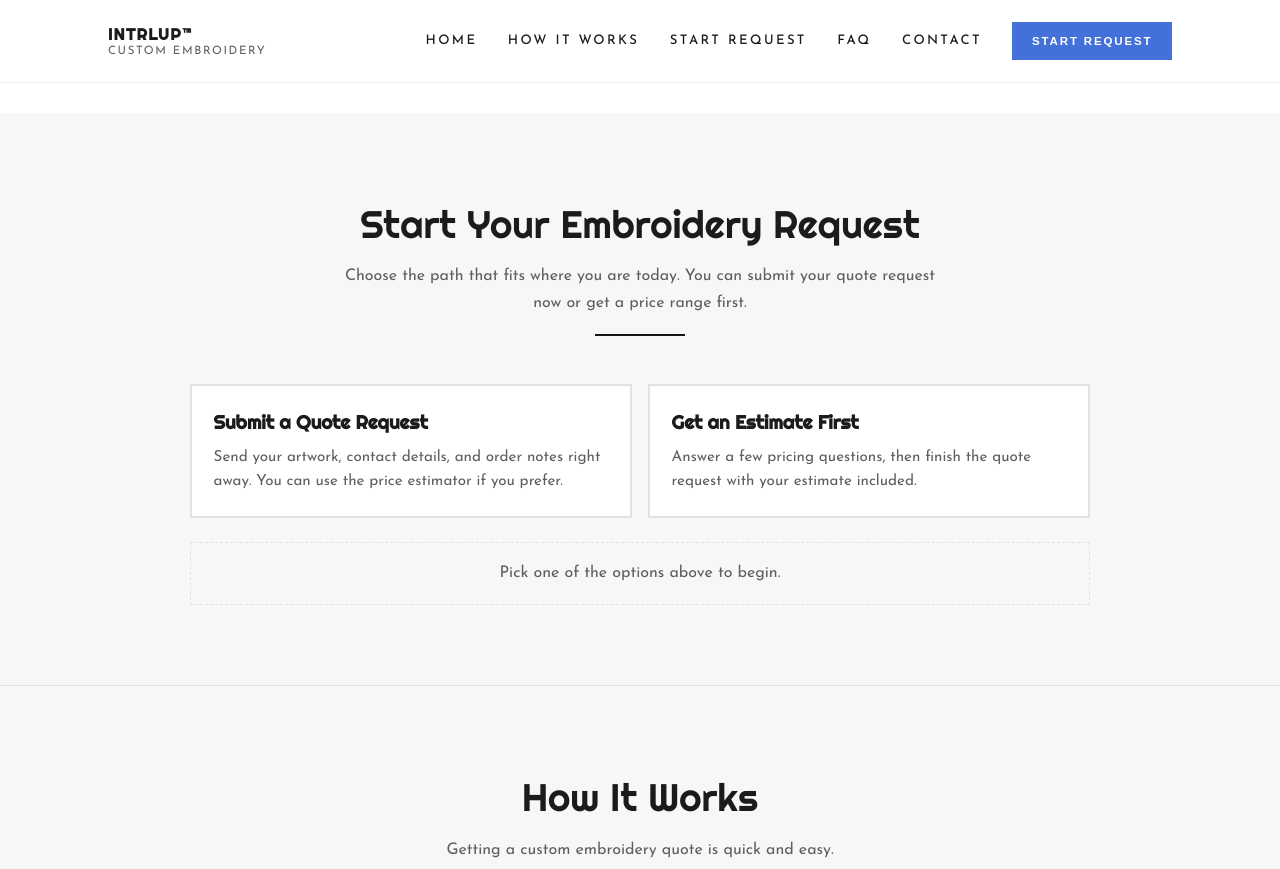
Test: App guided request flow › reveals the quote form after an estimate and carries estimate fields forward
The width and height of the screenshot is (1280, 869).
(page scrolled)
Click the button "Get an Estimate First" at (869, 451), box [648,384,1090,518]
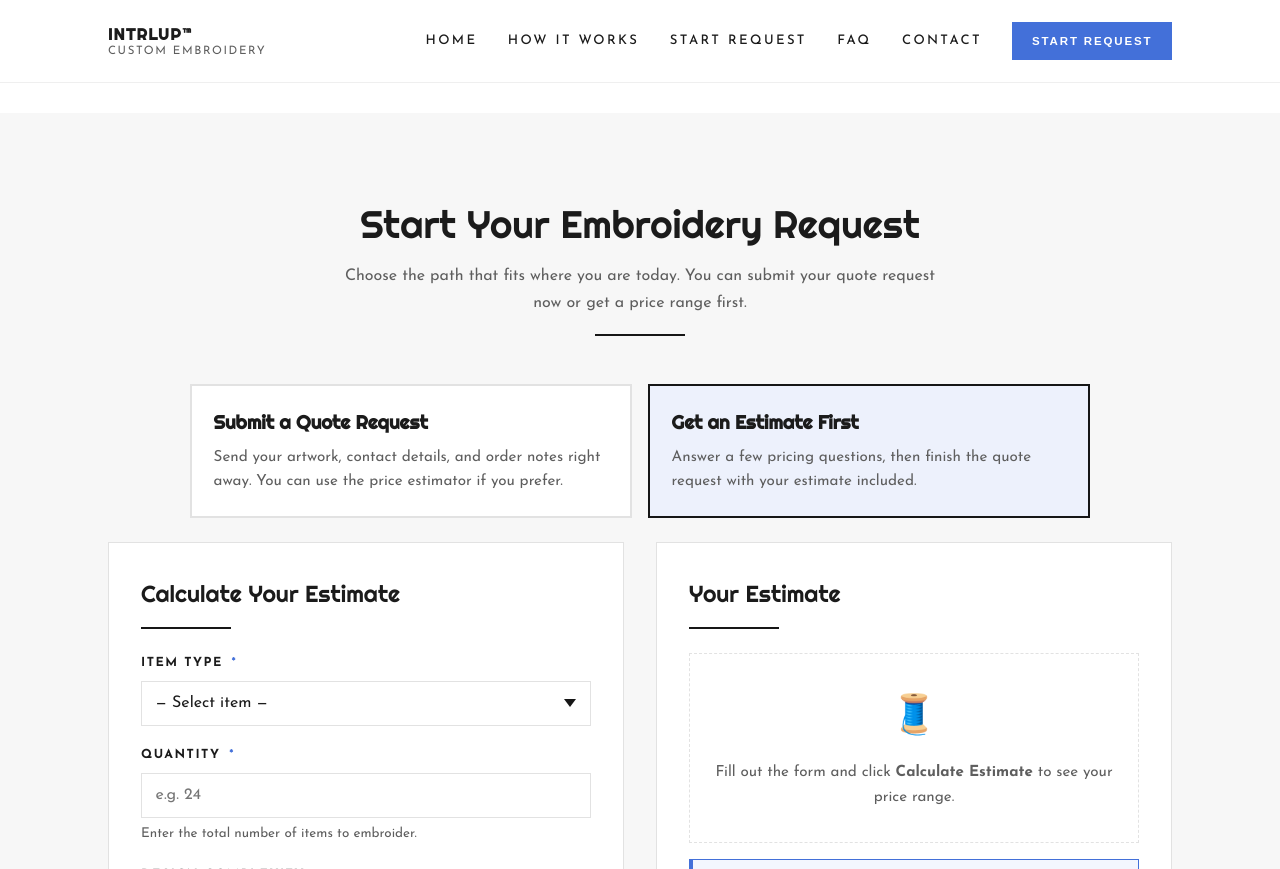
Select "5374 Perf Water Rep" in the dropdown labelled "Item Type *" at (366, 703), box [141,681,591,726]
(page scrolled)
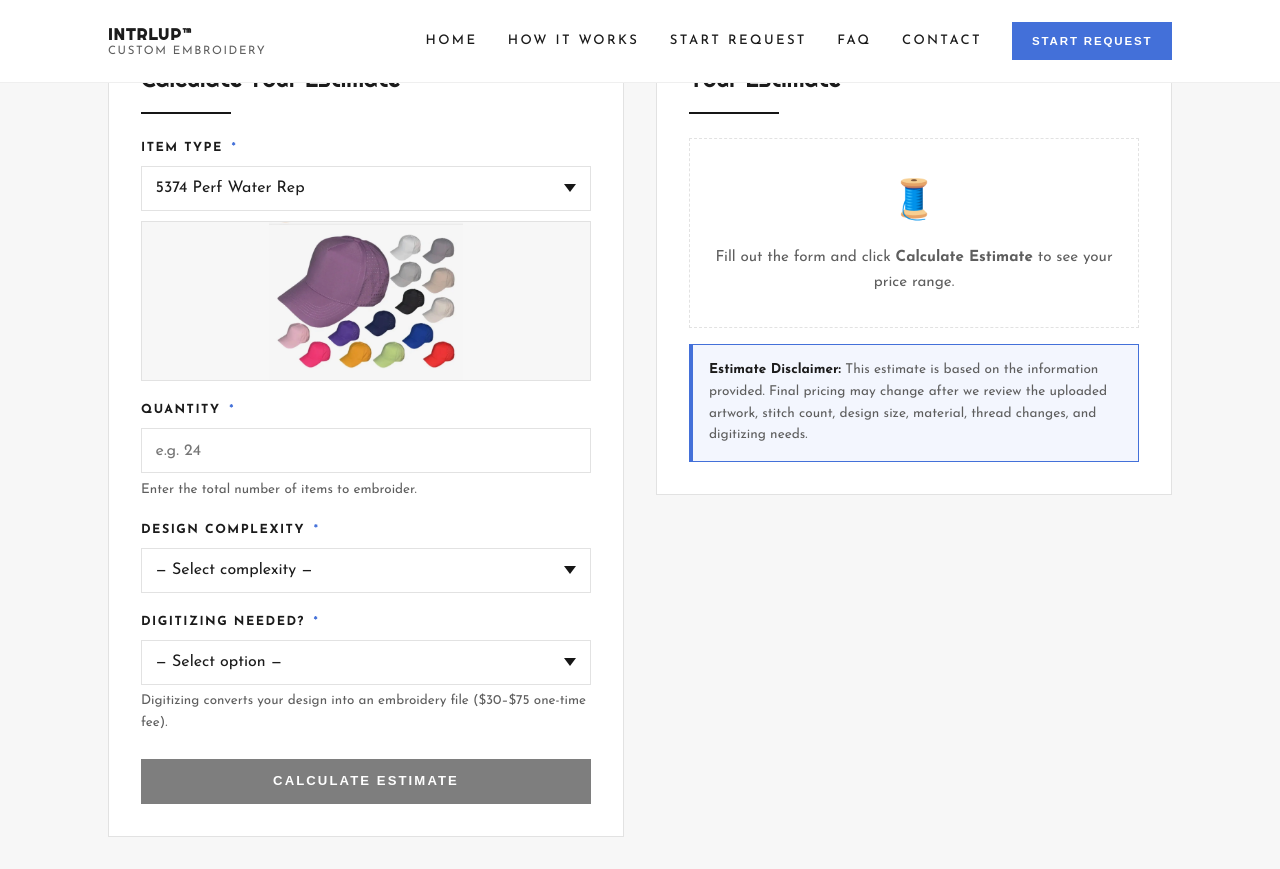
Type "12" into the number field labelled "Quantity *" at (366, 450), box [141,428,591,473]
Select "Simple text / small logo" in the dropdown labelled "Design Complexity *" at (366, 570), box [141,548,591,593]
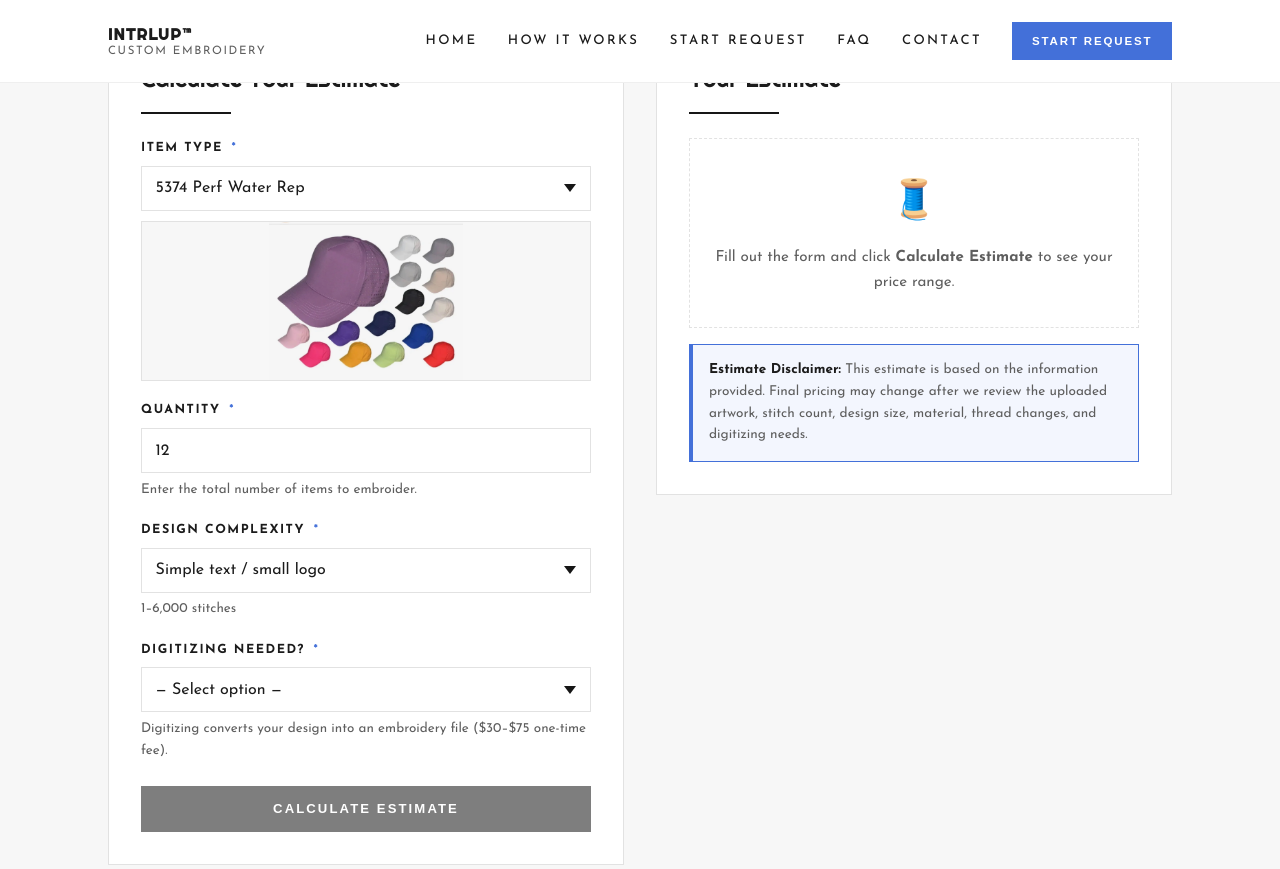
Select "Yes — I need digitizing" in the dropdown labelled "Digitizing Needed? *" at (366, 690), box [141,668,591,712]
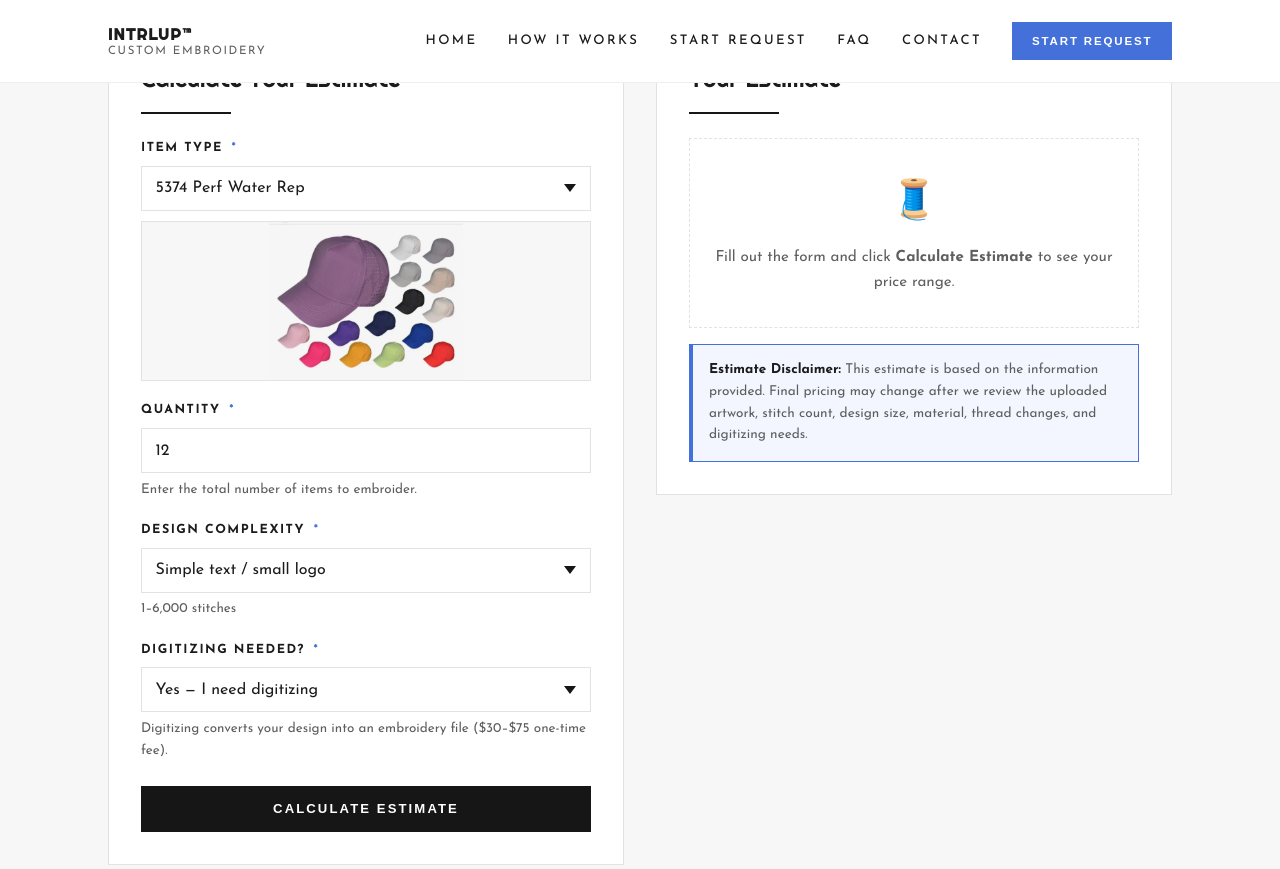
Click the button "Calculate Estimate" at (366, 809), box [141,786,591,832]
(page scrolled)
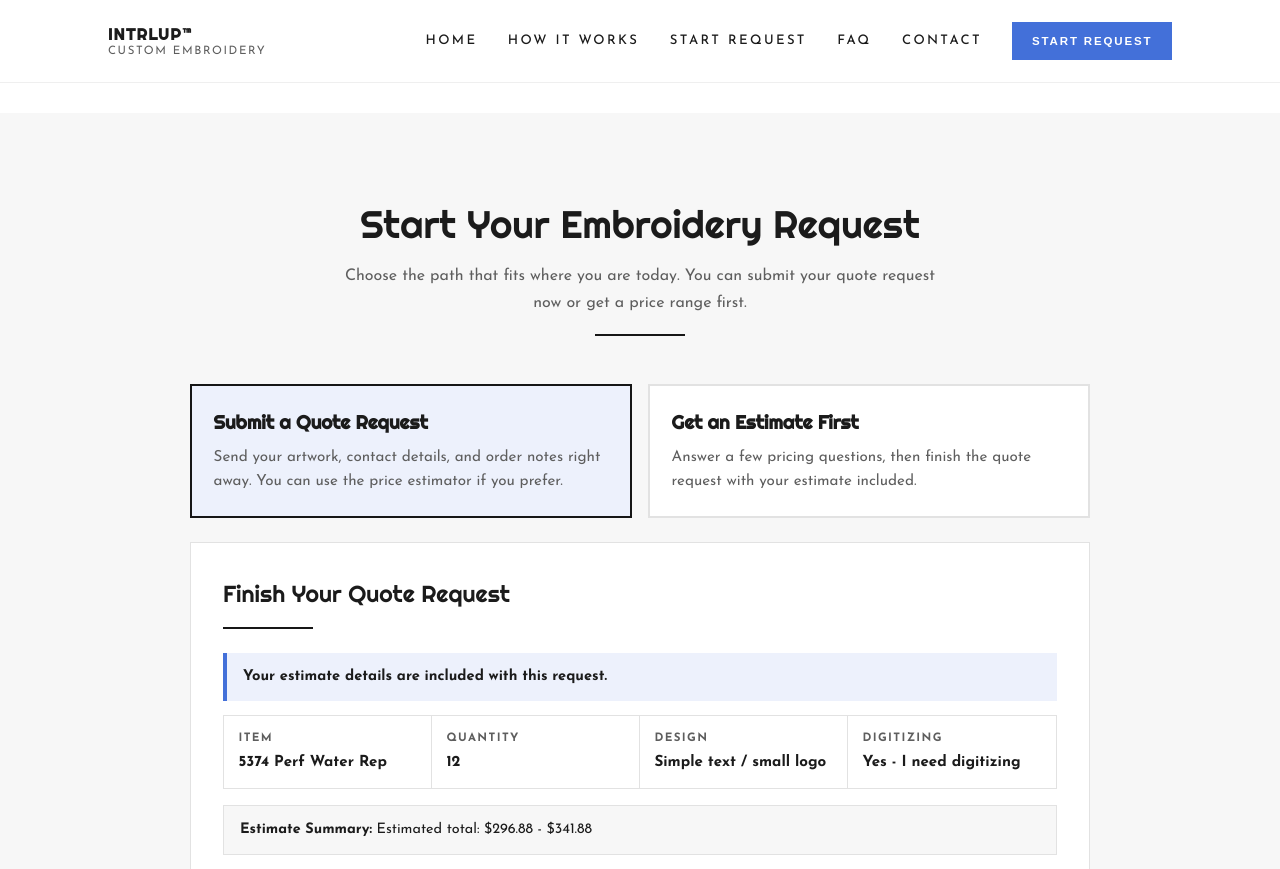
Expected: the heading "Finish Your Quote Request" is shown, [223,579,510,608]
Expected: the text "Your estimate details are included with this request." is shown, [223,653,1057,701]
Click the button "Get an Estimate First" at (869, 451), box [648,384,1090,518]
(page scrolled)
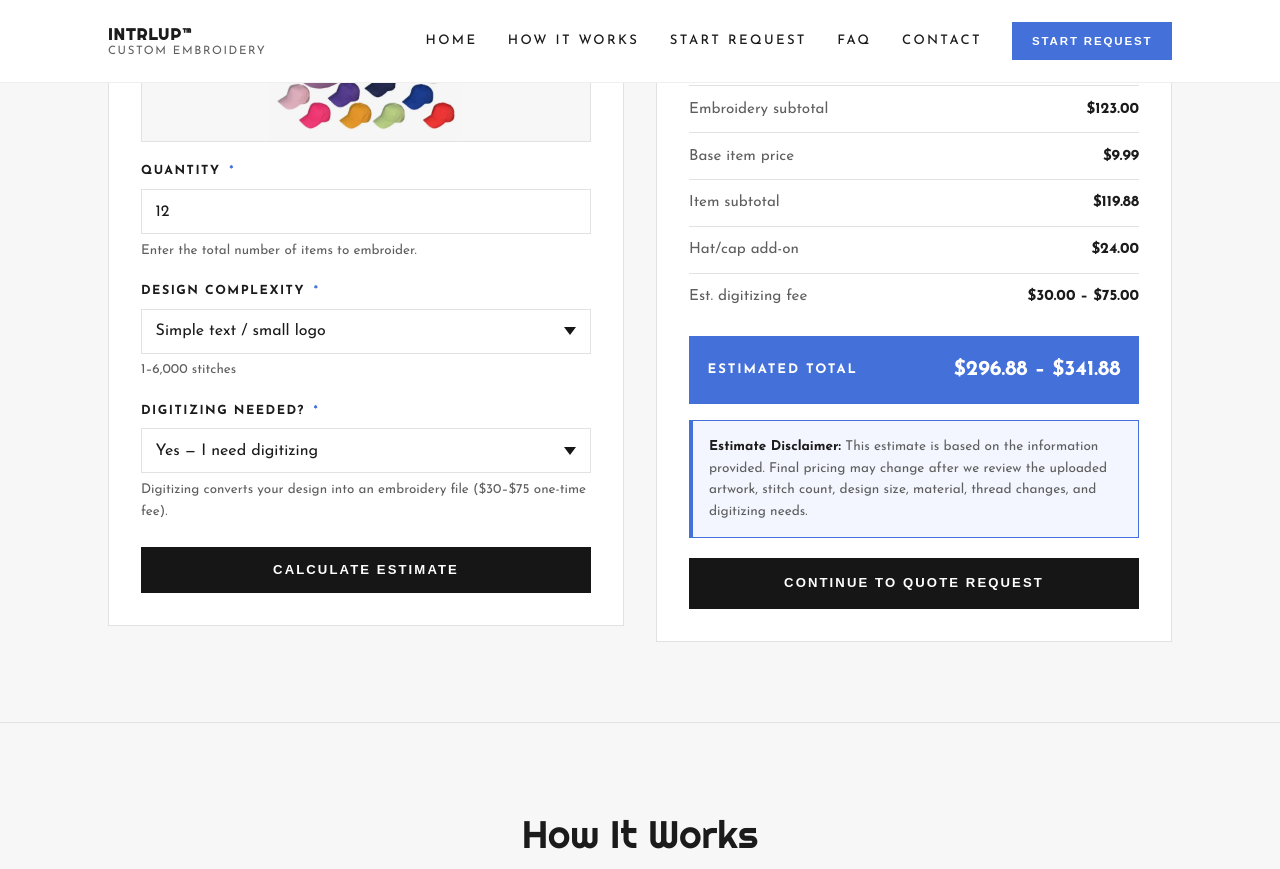
Expected: the number field labelled "Quantity *" holds "12", [141,189,591,234]
Expected: the dropdown labelled "Design Complexity *" shows "Simple text / small logo", [141,309,591,354]
Expected: the dropdown labelled "Digitizing Needed? *" shows "Yes — I need digitizing", [141,428,591,474]
